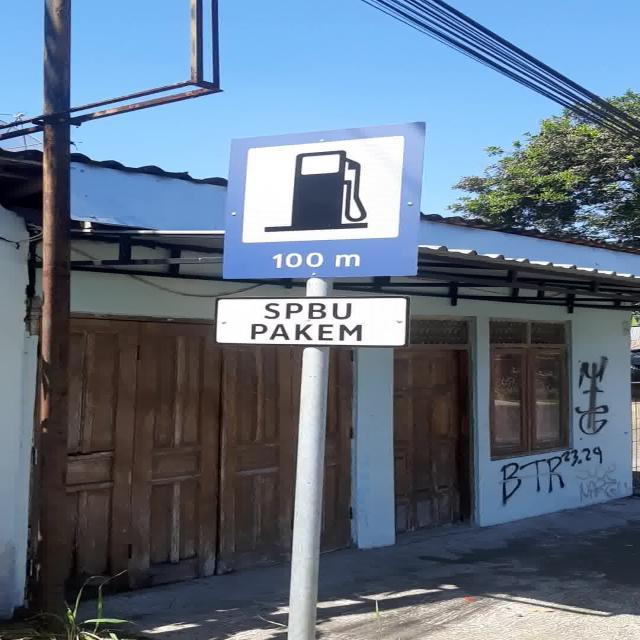Pom Bensin: (220, 121, 428, 279)
